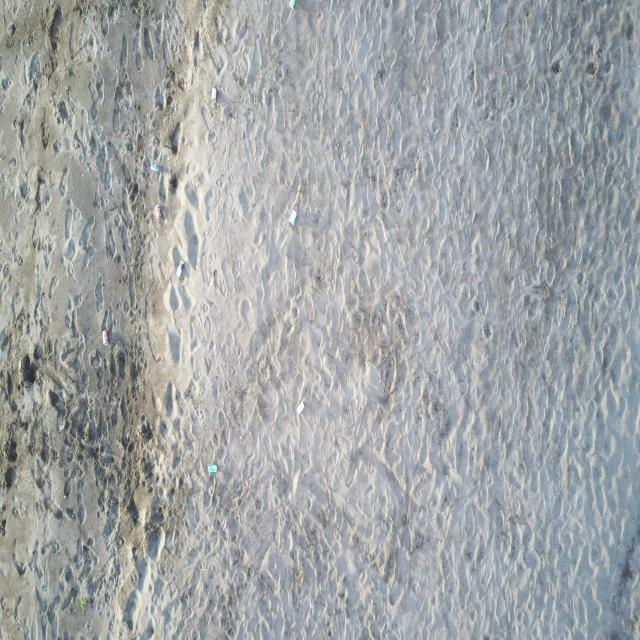Garbage: (79, 595, 88, 609), (176, 260, 183, 276), (289, 208, 296, 224), (101, 328, 108, 344), (154, 203, 160, 220), (296, 400, 303, 413), (151, 162, 160, 172), (211, 87, 216, 103), (207, 464, 216, 472), (289, 0, 295, 8)
